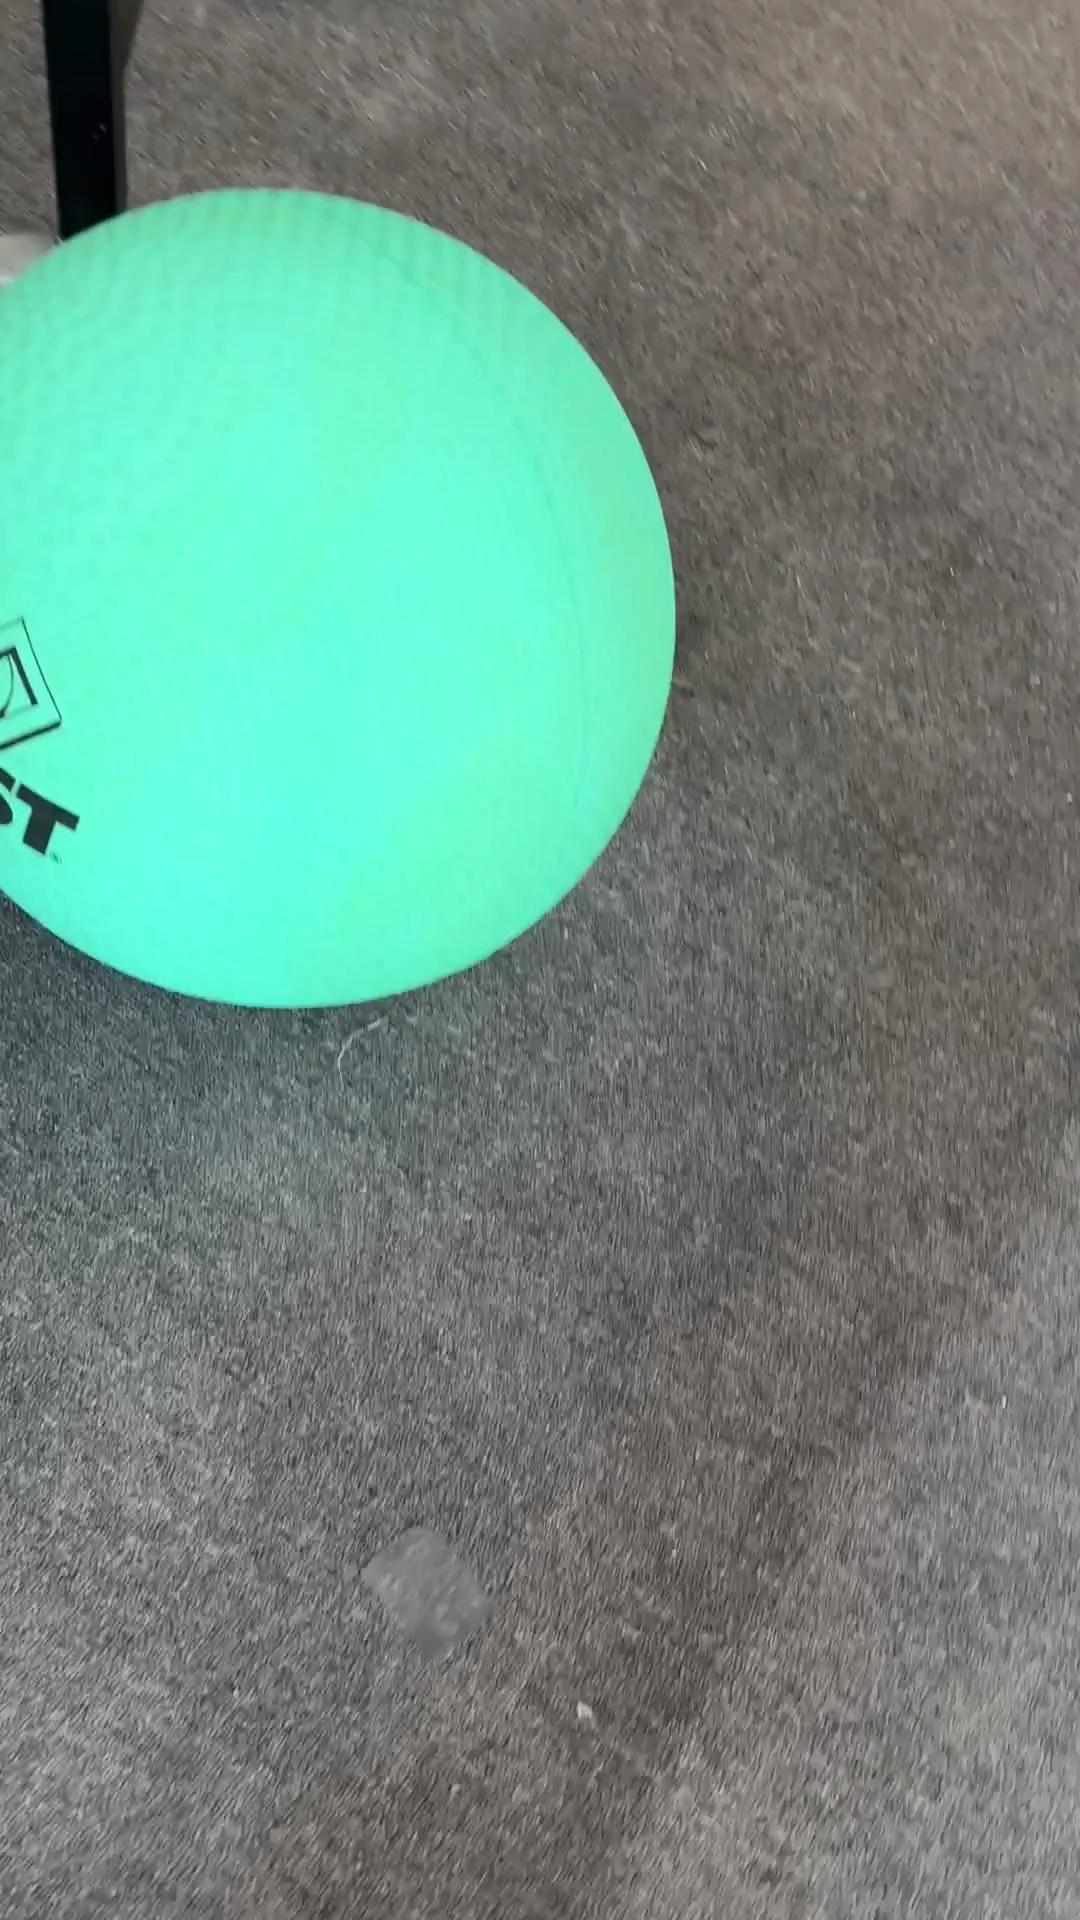ALGAE: (1, 185, 678, 1011)
